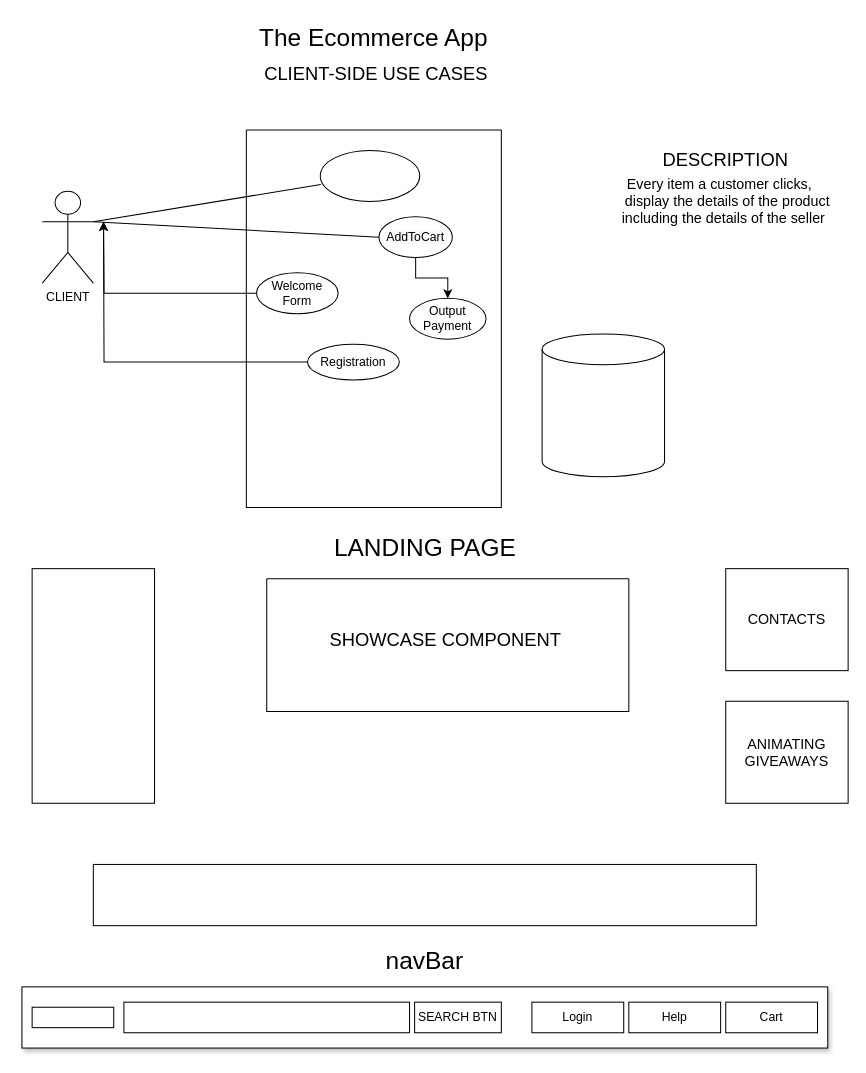
Some shapes in this 866 by 1073 pixel diagram are drawn without their labels. The centre of each missing label's shape, as x and y in pixels:
Brand: the point at 72,1017
CATEGORIES OF products: the point at 93,685
SEARCH BAR: the point at 266,1017
TEN (10) COMPONENTS: the point at 424,894
USER DATABASE: the point at 603,405
USER PROFILE PAGE: the point at 369,175
